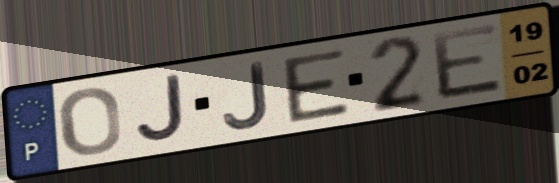2: (366, 34, 428, 116)
E: (427, 20, 507, 103), (279, 46, 353, 125)
J: (133, 71, 189, 145), (220, 59, 271, 132)
O: (55, 85, 124, 159)
